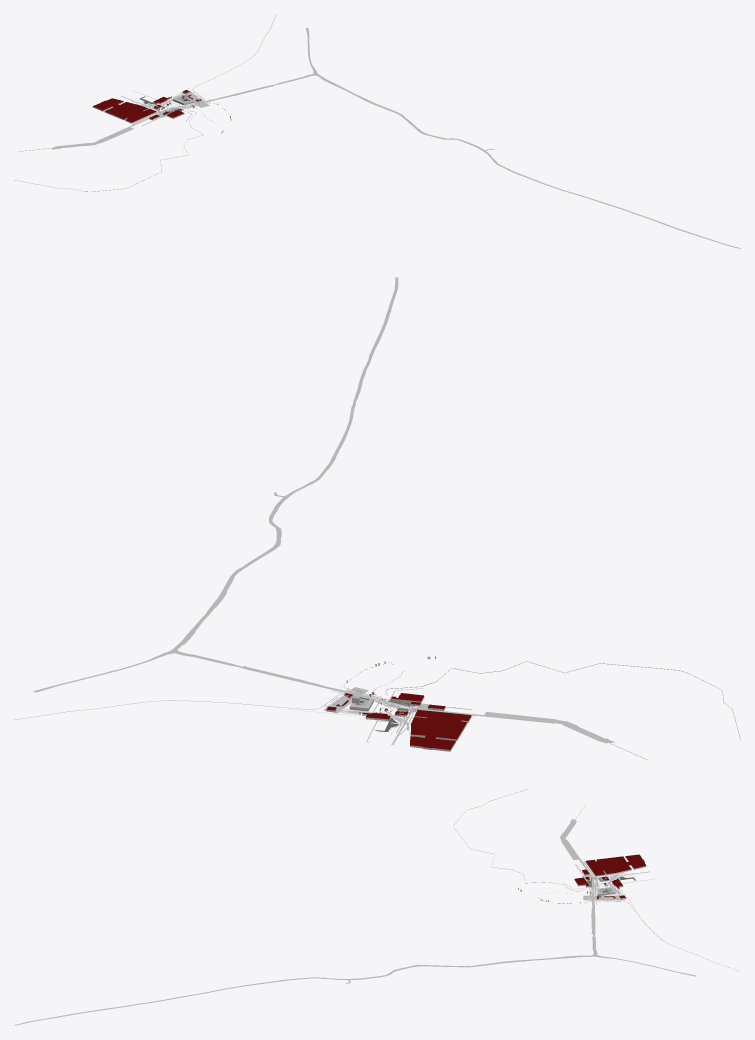
File: map.obj
The picture shows the model from 3 angles, top to bottom: view 1: azimuth 30°, elevation 25°; view 2: azimuth 150°, elevation 25°; view 3: azimuth 270°, elevation 25°; orthographic projection. The views are drawn at different scales.
Visible parts, largest first — view 1: Water1173, Building Nordstan; view 2: Water1173, Building Nordstan, Water1165; view 3: Water1173, Building Nordstan.
Boxes of the visible parts, x1,y1,x2,y2 form: Water1173: [185, 28, 740, 248]; Building Nordstan: [92, 98, 156, 123]; Water1173: [33, 277, 398, 700]; Building Nordstan: [410, 710, 471, 751]; Water1165: [378, 699, 614, 743]; Water1173: [14, 890, 696, 1025]; Building Nordstan: [585, 854, 646, 876].
Size of the model in its own units: 3204 by 35.5 by 4159.
